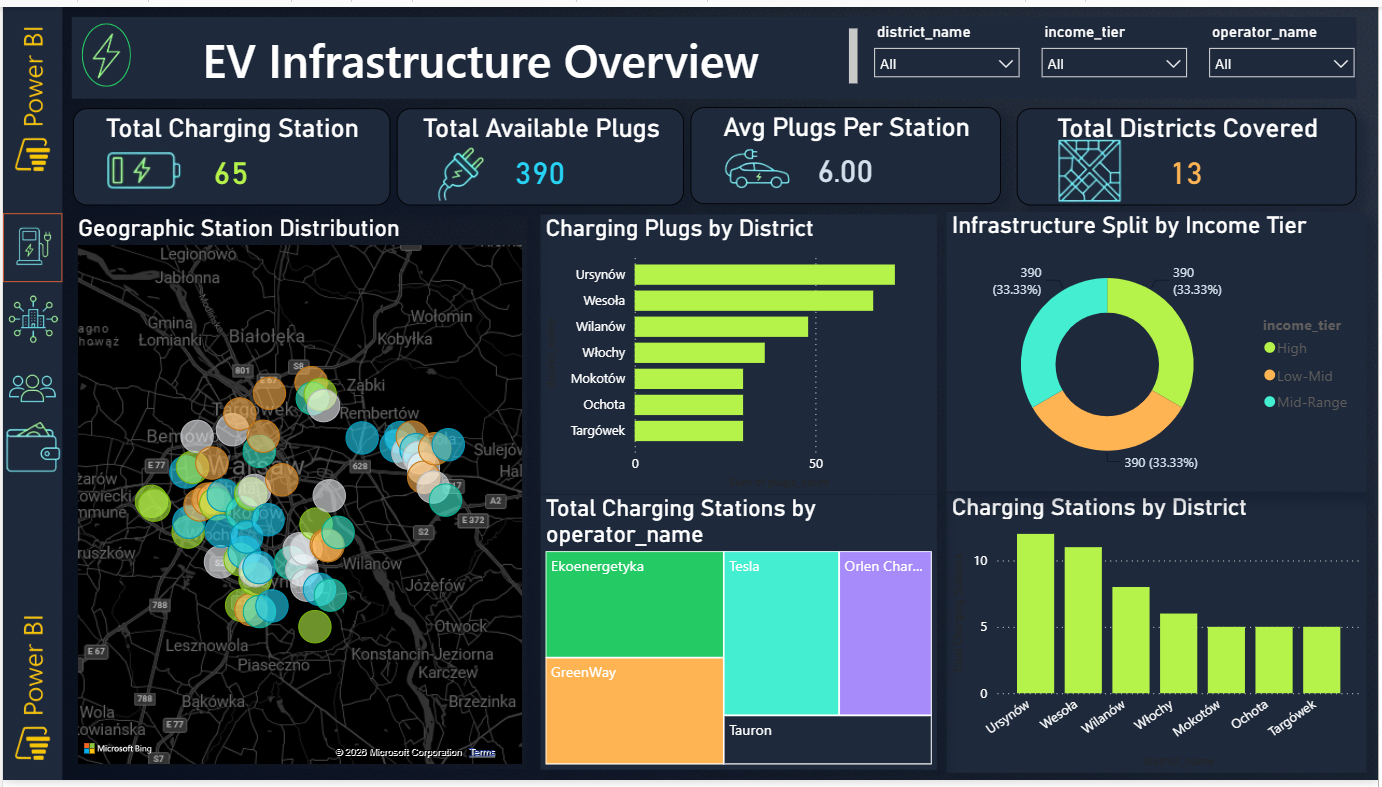

The dashboard page shown, as its layout file describes it:
{"tool":"powerbi","page":{"name":"EV Infrastructure Overview","canvas":[1280,720],"ordinal":0},"visuals":[{"type":"shape","box":[0,0,55.5,720.2],"z":0},{"type":"shape","box":[63.9,9.7,1195.6,76],"z":1000},{"type":"textbox","box":[96.5,15.1,703.5,64],"z":2000},{"type":"image","box":[63.9,15.7,65.1,60.3],"z":3000},{"type":"slicer","fields":{"Values":["districts.district_name"]},"box":[799.9,9.7,155.6,65.1],"z":4000},{"type":"slicer","fields":{"Values":["districts.income_tier"]},"box":[955.5,9.7,155.6,65.1],"z":5000},{"type":"slicer","fields":{"Values":["charging_stations.operator_name"]},"box":[1111.1,9.7,155.6,65.1],"z":6000},{"type":"image","box":[8.4,547.7,55.5,172.5],"z":7000},{"type":"image","box":[8.4,0,55.5,172.5],"z":8000},{"type":"shape","box":[73.6,15.7,45.8,59.1],"z":9000},{"type":"card","title":"Total Charging Station","fields":{"Values":["charging_sessions.Total Stations"]},"box":[65,93.8,295,90],"z":10000},{"type":"card","title":"Total Available Plugs","fields":{"Values":["charging_sessions.Total Available Plugs"]},"box":[366.2,93.8,267.5,90],"z":11000},{"type":"card","title":"Avg Plugs Per Station","fields":{"Values":["charging_sessions.Avg Plugs Per Station"]},"box":[640,92.5,288.8,90],"z":12000},{"type":"card","title":"Total Districts Covered ","fields":{"Values":["charging_sessions.Total Districts Covered"]},"box":[942.5,93.8,316.2,90],"z":13000},{"type":"image","box":[86.2,111.2,83.8,80],"z":14000},{"type":"image","box":[383.8,111.2,83.8,80],"z":15000},{"type":"image","box":[661.2,111.2,83.8,80],"z":16000},{"type":"image","box":[965,111.2,83.8,80],"z":17000},{"type":"image","box":[0,191.8,55.5,63.9],"z":18000},{"type":"image","box":[0,255.8,55.5,63.9],"z":19000},{"type":"image","box":[0,324.5,55.5,63.9],"z":20000},{"type":"image","box":[0,377.6,55.5,63.9],"z":21000},{"type":"clusteredBarChart","title":"Charging Plugs by District","fields":{"Category":["charging_stations.district_name"],"Y":["Sum(charging_stations.plugs_count)"]},"box":[500,192.5,368.8,260],"z":22000},{"type":"clusteredColumnChart","title":"Charging Stations by District","fields":{"Category":["charging_stations.district_name"],"Y":["charging_sessions.Total Charging Stations"]},"box":[877.5,452.5,390,260],"z":23000},{"type":"map","title":"Geographic Station Distribution","fields":{"Series":["charging_stations.operator_name"],"Size":["Sum(charging_stations.plugs_count)"],"X":["charging_stations.longitude"],"Y":["charging_stations.latitude"]},"box":[65,192.5,422.5,516.2],"z":24000},{"type":"donutChart","title":"Infrastructure Split by Income Tier","fields":{"Category":["customers.income_tier"],"Y":["charging_sessions.Total Charging Plugs"]},"box":[877.5,191.2,390,260],"z":25000},{"type":"treemap","fields":{"Group":["charging_stations.operator_name"],"Values":["charging_sessions.Total Charging Stations"]},"box":[500,453,369,256],"z":26000}]}

Visuals, with their boxes on the page's 1280x720 design canvas (x1, y1, x2, y2). These are canvas units, not pixel positions in the 1382x787 screenshot, which may show the page scaled, cropped or inside an application window:
shape: [0,0,56,720]
shape: [64,10,1260,86]
textbox: [96,15,800,79]
image: [64,16,129,76]
slicer - districts.district_name: [800,10,956,75]
slicer - districts.income_tier: [956,10,1111,75]
slicer - charging_stations.operator_name: [1111,10,1267,75]
image: [8,548,64,720]
image: [8,0,64,172]
shape: [74,16,119,75]
"Total Charging Station" card: [65,94,360,184]
"Total Available Plugs" card: [366,94,634,184]
"Avg Plugs Per Station" card: [640,92,929,182]
"Total Districts Covered " card: [942,94,1259,184]
image: [86,111,170,191]
image: [384,111,468,191]
image: [661,111,745,191]
image: [965,111,1049,191]
image: [0,192,56,256]
image: [0,256,56,320]
image: [0,324,56,388]
image: [0,378,56,442]
"Charging Plugs by District" clusteredBarChart: [500,192,869,452]
"Charging Stations by District" clusteredColumnChart: [878,452,1268,712]
"Geographic Station Distribution" map: [65,192,488,709]
"Infrastructure Split by Income Tier" donutChart: [878,191,1268,451]
treemap - charging_stations.operator_name x charging_sessions.Total Charging Stations: [500,453,869,709]
